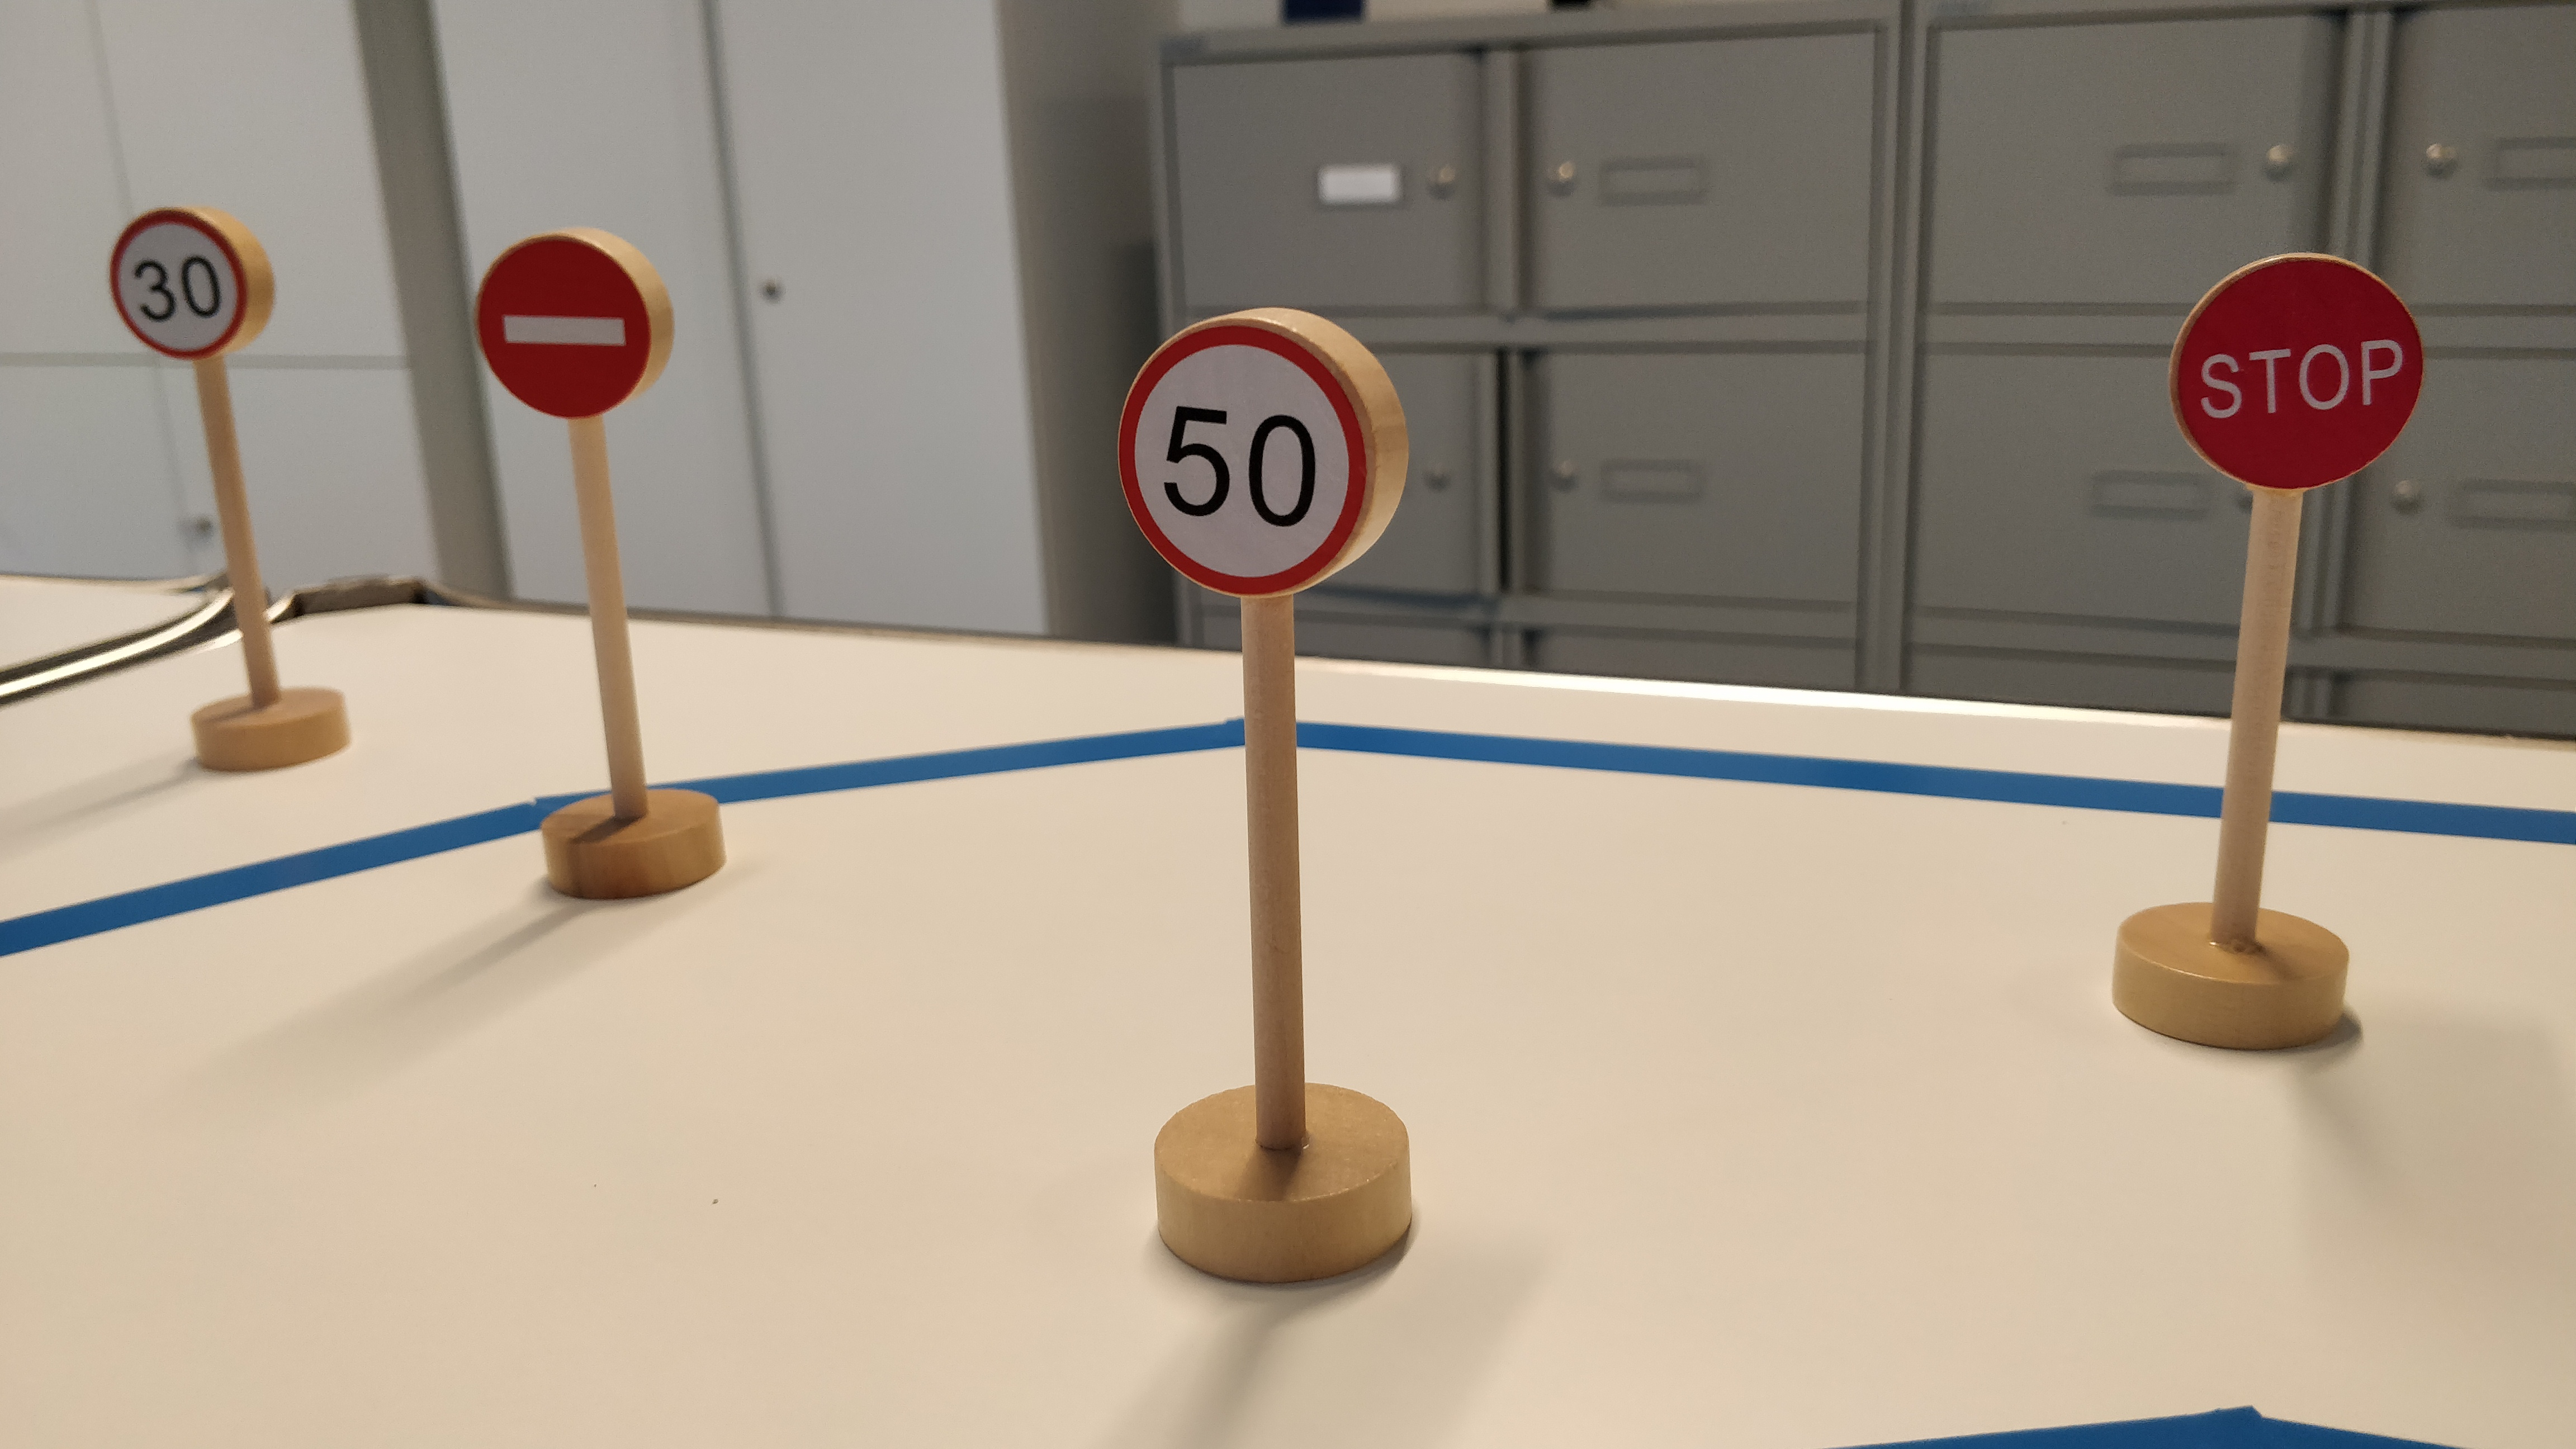Prohibition Sign: (472, 225, 678, 424)
Speed Limit 30: (107, 205, 280, 365)
Speed Limit 50: (1111, 303, 1415, 605)
Stop Sign: (2163, 246, 2428, 495)
